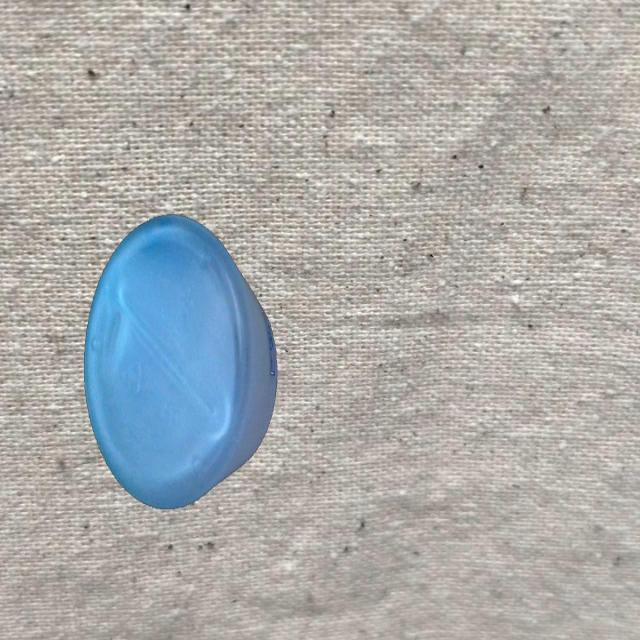bottle: (80, 210, 278, 514)
